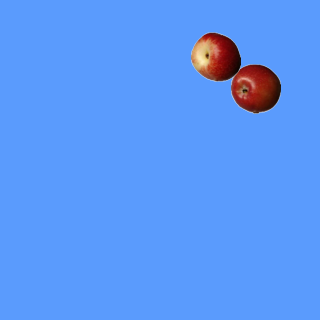Apple Braeburn: (230, 63, 280, 113)
Nectarine: (190, 31, 240, 81)
